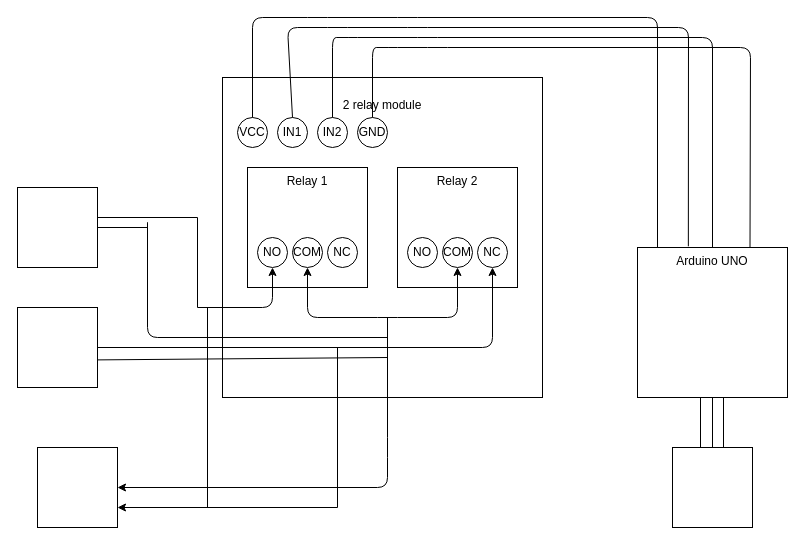
Image size: 805x545. Some labels were removed from this diagram. Here are the shapes that lost their labels. From the top down, the centre of each, then its label:
At point 57,227: "AC Fan".
At point 57,347: "Filament bulb".
At point 77,487: "AC Source".
At point 712,487: "DHT11/DHT22".
